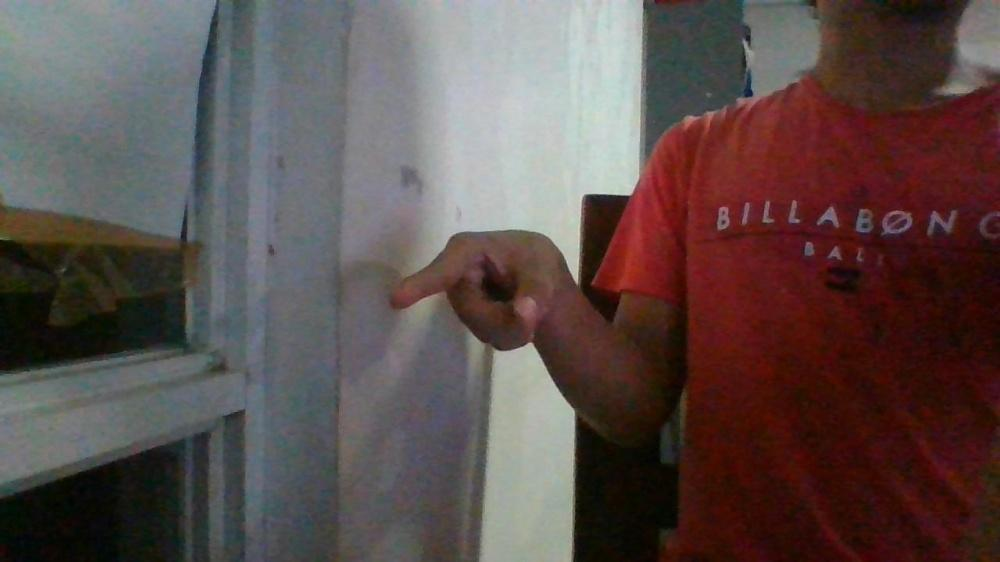z: (388, 227, 567, 356)
